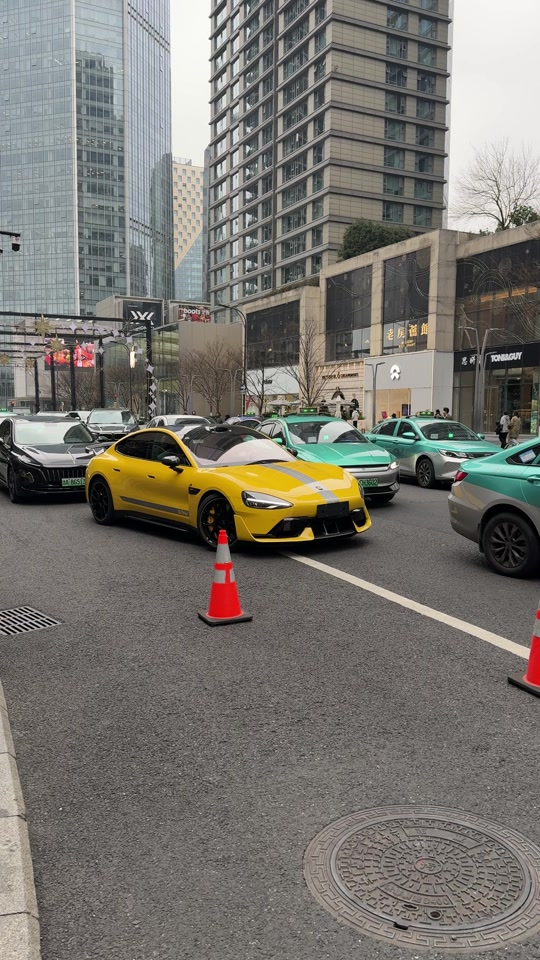other: (456, 423, 540, 581), (279, 408, 406, 497), (3, 410, 109, 508), (378, 404, 501, 479)
su7: (84, 414, 369, 545)
